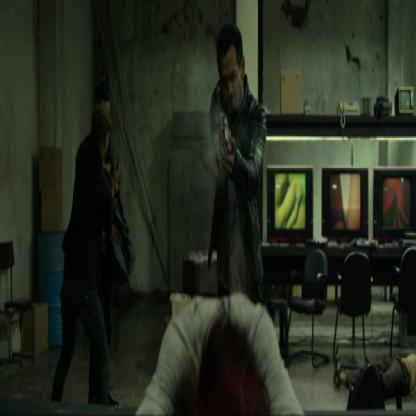Gun: (110, 202, 135, 252), (221, 111, 232, 150)
